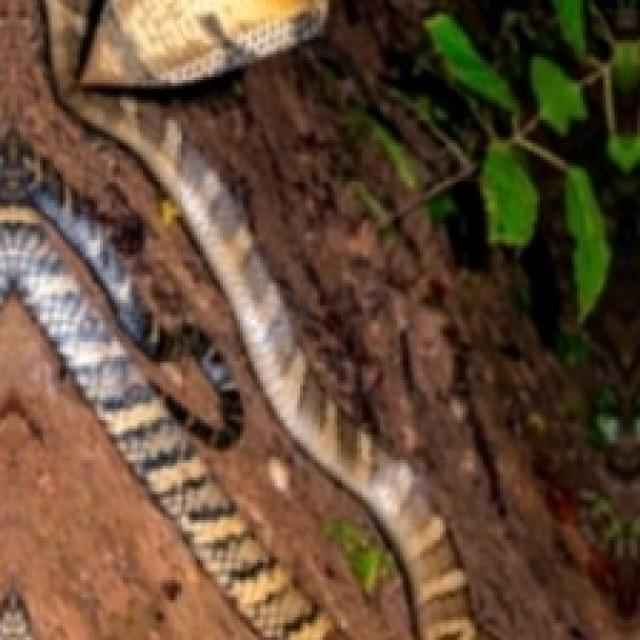king cobra: (0, 0, 477, 637)
